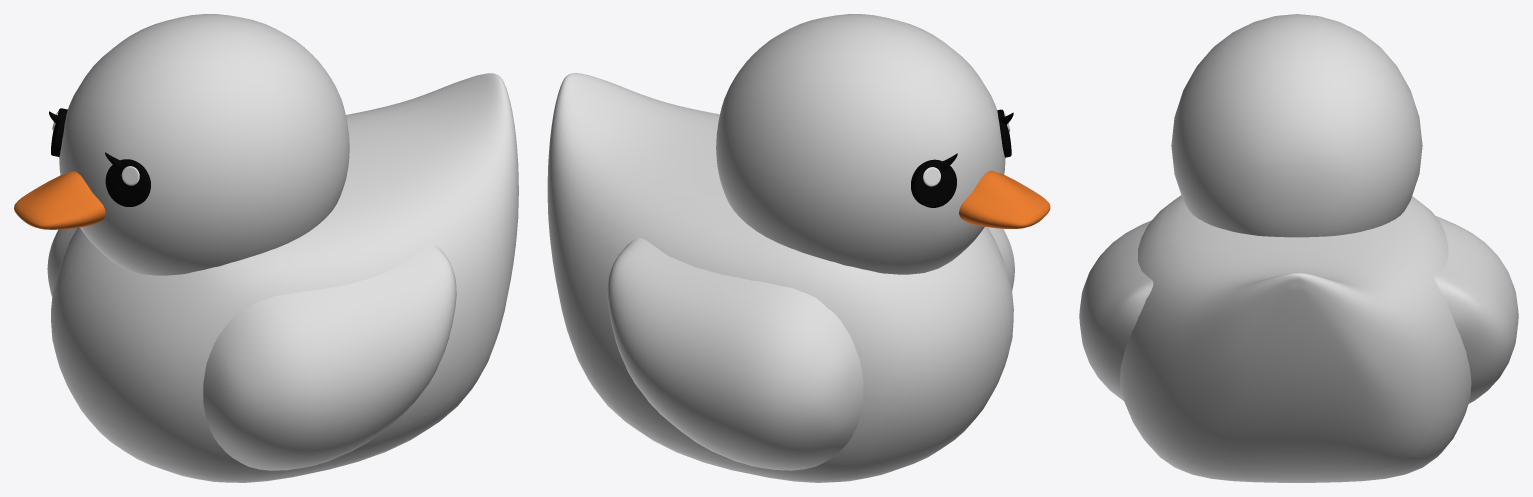
Rendered from goose.fbx.
The picture shows the model from 3 angles, left to right: view 1: azimuth 30°, elevation 25°; view 2: azimuth 150°, elevation 25°; view 3: azimuth 270°, elevation 25°; orthographic projection. The views are drawn at different scales.
Visible parts, largest first — view 1: Circle.014; view 2: Circle.014; view 3: Circle.014.
Part boxes in pixels (box(x1,y1,x2,y2)): Circle.014: box(14, 14, 518, 482); Circle.014: box(547, 14, 1050, 482); Circle.014: box(1079, 14, 1518, 482).
Bounding box in the file's own units: 36.21 × 31.23 × 30.9.
